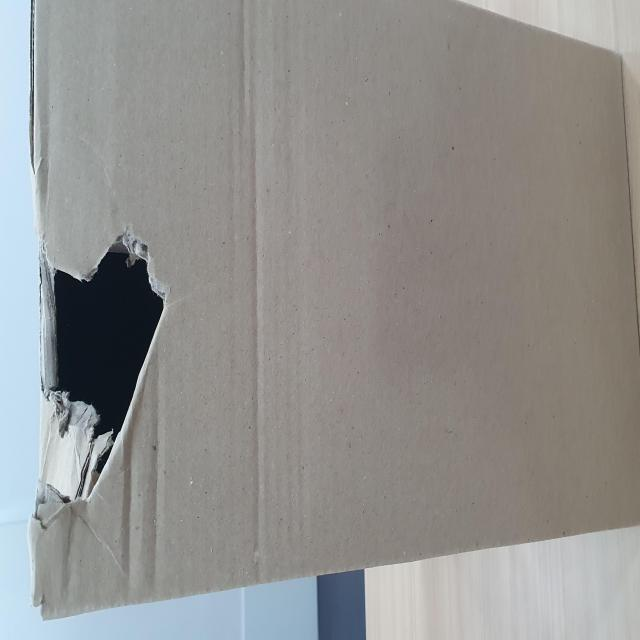damaged: (57, 52, 273, 302)
